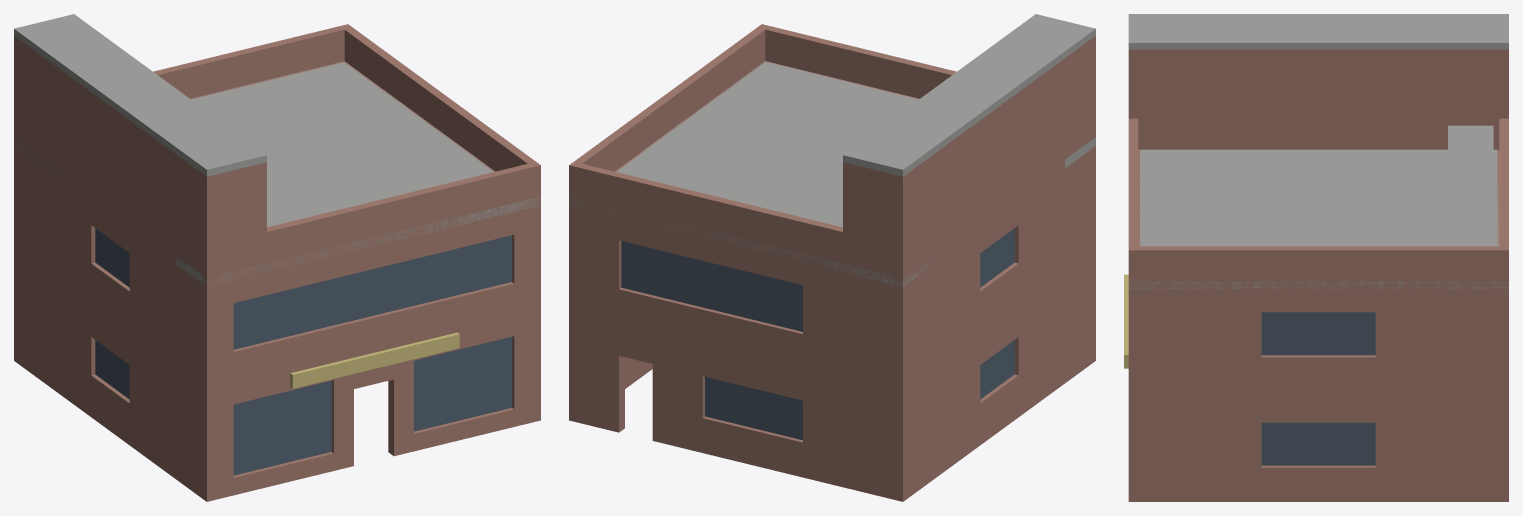
The model's file is townhouse.lod1.glb.
3 renders of one model, left to right at view 1: azimuth 30°, elevation 25°; view 2: azimuth 150°, elevation 25°; view 3: azimuth 270°, elevation 25°, orthographic.
Visible parts, largest first — view 1: townhouse; view 2: townhouse; view 3: townhouse.
Boxes of the visible parts, box(x1,y1,x2,y2) form: townhouse: box(14, 14, 540, 501); townhouse: box(569, 14, 1095, 501); townhouse: box(1124, 14, 1508, 501).
Size of the model in its own units: 10 by 9.5 by 10.12.
